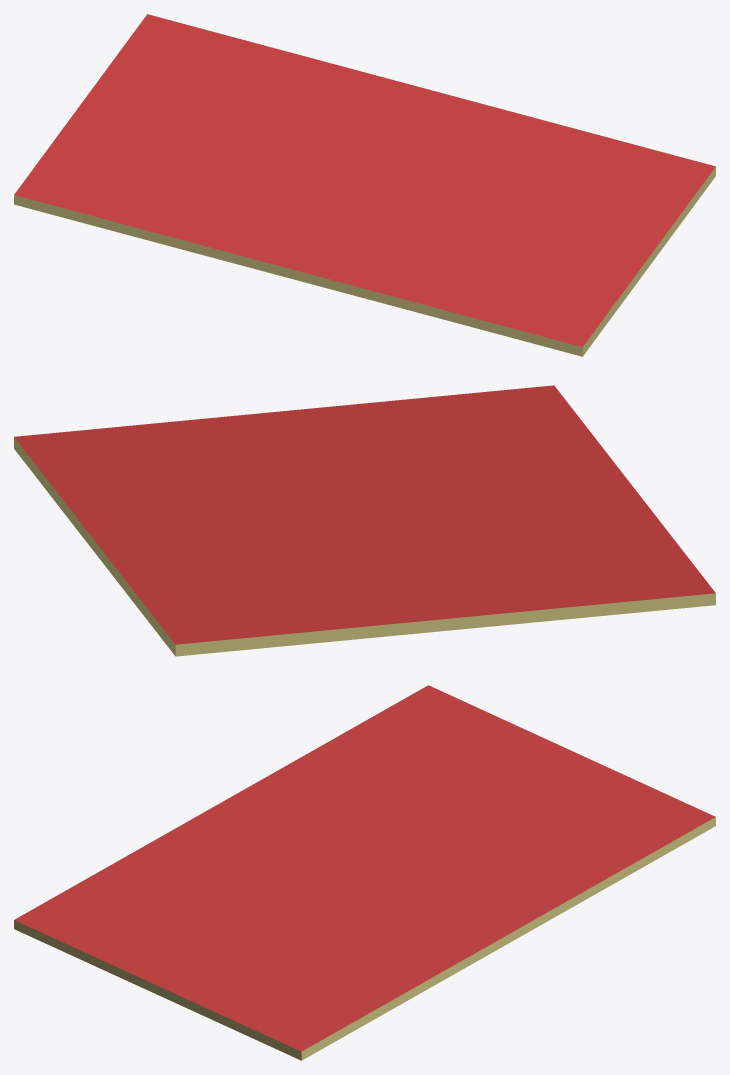
The picture shows the model from 3 angles, top to bottom: view 1: azimuth 30°, elevation 25°; view 2: azimuth 150°, elevation 25°; view 3: azimuth 270°, elevation 25°; orthographic projection. The views are drawn at different scales.
Bounding box in the file's own units: 6.89 × 6.97 × 0.903.
